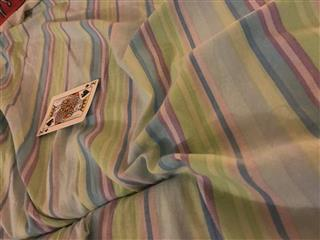KingOfSpades: (35, 78, 98, 137)
